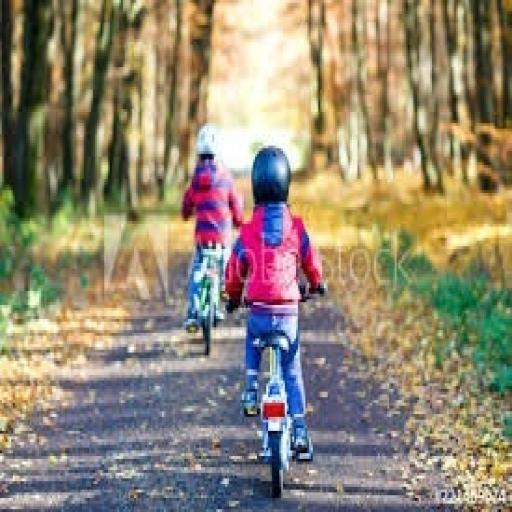cycling: (222, 142, 328, 462), (177, 123, 246, 339)
